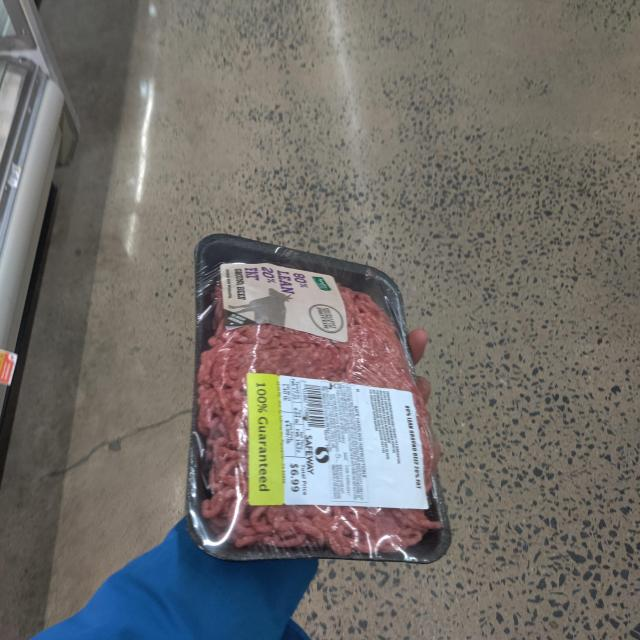Meat: (186, 230, 448, 568)
